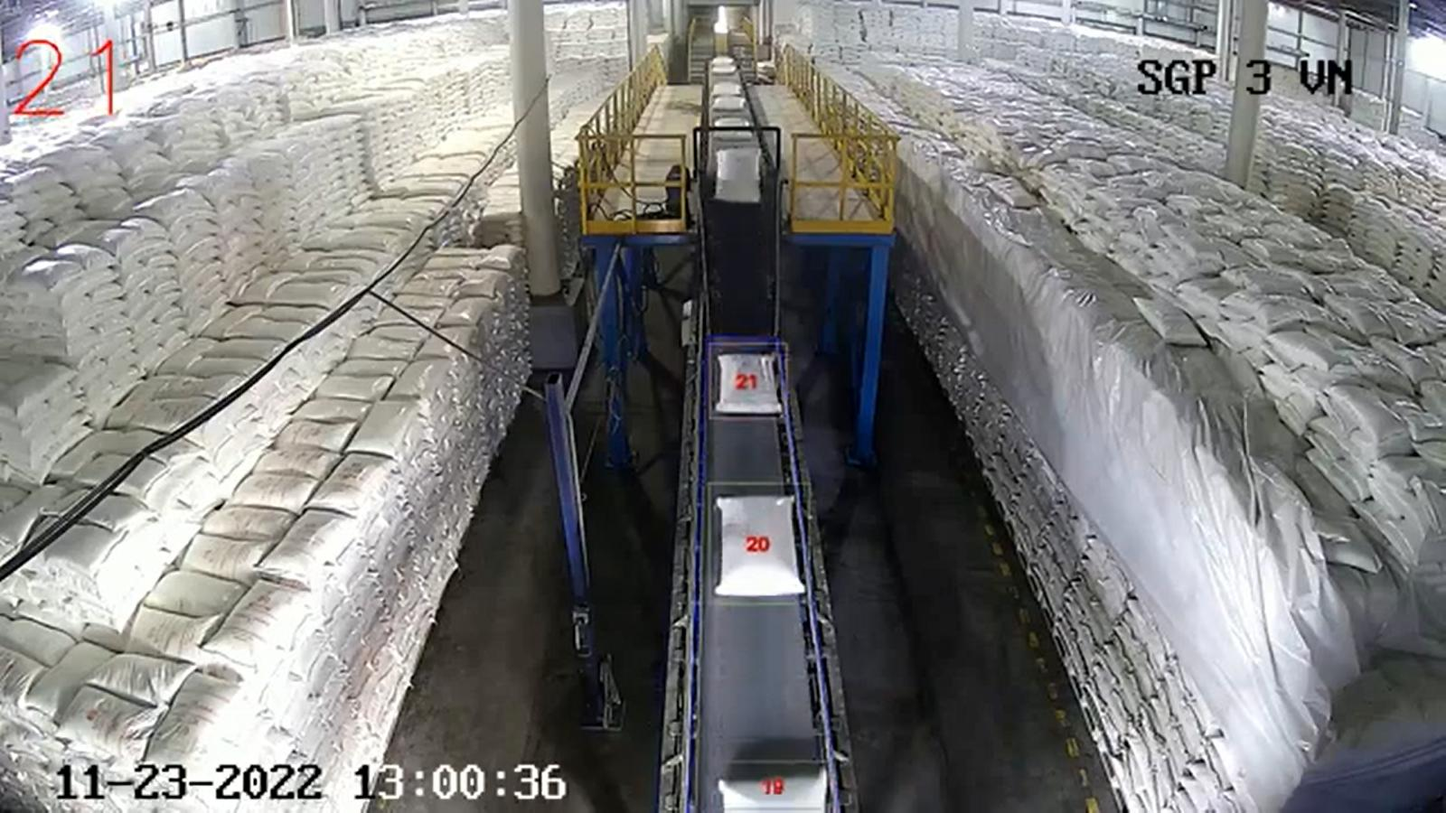rice-bag: (714, 495, 804, 597), (716, 352, 781, 414), (715, 147, 761, 203)
